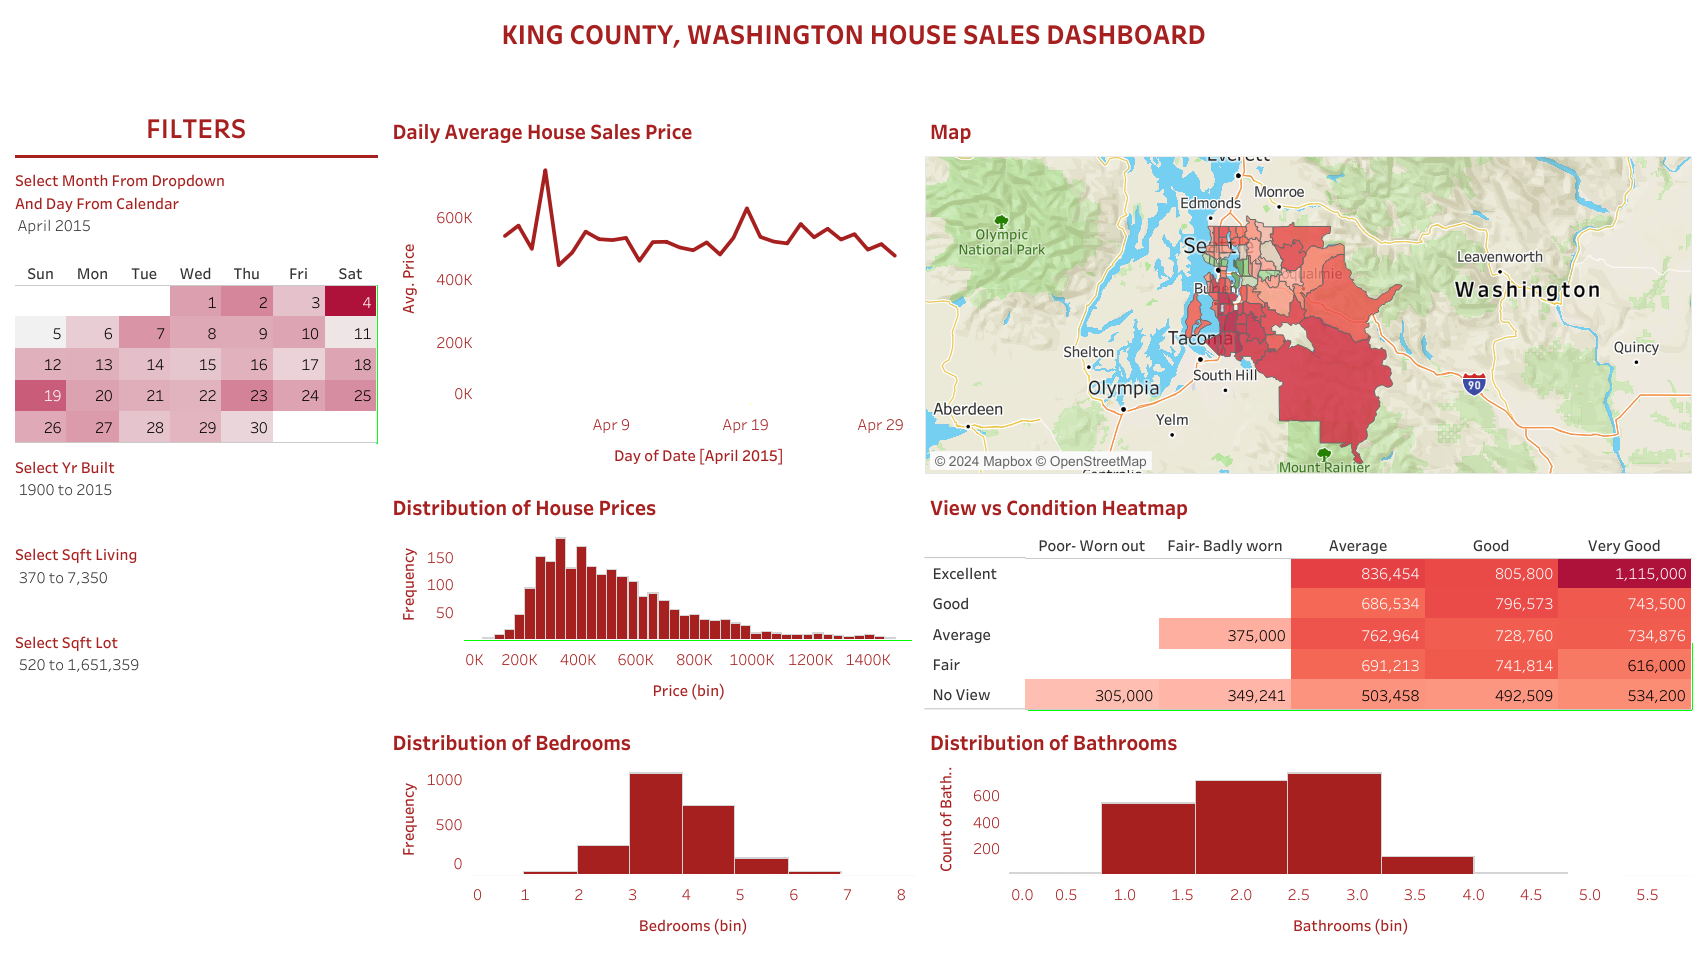

Layout of this report page (visuals, bound fields, positions):
{"tool":"tableau","page":{"name":"KingCountyHouseSales","canvas":[1000,1000],"units":"permille","ordinal":0},"visuals":[{"type":"text","box":[5.9,10,988.3,56.1]},{"type":"text","box":[5.9,107.3,218.2,56.1]},{"type":"worksheet","title":"Line Chart","mark":"Automatic","rows":["price"],"cols":["date"],"box":[224.1,107.3,315,393.3]},{"type":"worksheet","title":"Map","mark":"Automatic","box":[539.1,107.3,455.1,392.7]},{"type":"blank","box":[5.9,163.4,218.2,12.5]},{"type":"filter","title":"Calender","param":"[federated.1v52g1o040yq4518wz3s51om1w4j].[my:date:ok]","box":[5.9,175.9,218.2,102.2]},{"type":"worksheet","title":"Calender","mark":"Square","rows":["date"],"cols":["date"],"box":[5.9,278.2,218.2,193.3]},{"type":"filter","title":"Calender","param":"[federated.1v52g1o040yq4518wz3s51om1w4j].[none:yr_built:qk]","box":[5.9,471.4,218.2,68.6]},{"type":"worksheet","title":"Heatmap","mark":"Square","rows":["view"],"cols":["condition"],"box":[539.1,500,455.1,245]},{"type":"worksheet","title":"Histogram House Price","mark":"Automatic","rows":["price"],"cols":["Price (bin)"],"box":[224.1,500.6,315,244.3]},{"type":"filter","title":"Calender","param":"[federated.1v52g1o040yq4518wz3s51om1w4j].[none:sqft_living:qk]","box":[5.9,540,218.2,68.6]},{"type":"filter","title":"Calender","param":"[federated.1v52g1o040yq4518wz3s51om1w4j].[none:sqft_lot:qk]","box":[5.9,608.6,218.2,68.6]},{"type":"worksheet","title":"Histogram Bedrooms","mark":"Automatic","rows":["bedrooms"],"cols":["Bedrooms (bin)"],"box":[224.1,745,315,245.1]},{"type":"worksheet","title":"Histogram Bathrooms","mark":"Automatic","rows":["bathrooms"],"cols":["Bathrooms (bin)"],"box":[539.1,745,455.1,245.1]}]}

Visuals, with their boxes on the dashboard's canvas, which has no fixed pixel size, in thousandths of its width and height (x1, y1, x2, y2). These are canvas units, not pixel positions in the 1706x959 screenshot, which may show the page scaled, cropped or inside an application window:
text: pyautogui.locateOnScreen(6, 10, 994, 66)
text: pyautogui.locateOnScreen(6, 107, 224, 163)
"Line Chart" worksheet: pyautogui.locateOnScreen(224, 107, 539, 501)
"Map" worksheet: pyautogui.locateOnScreen(539, 107, 994, 500)
blank: pyautogui.locateOnScreen(6, 163, 224, 176)
"Calender" filter: pyautogui.locateOnScreen(6, 176, 224, 278)
"Calender" worksheet (Square marks): pyautogui.locateOnScreen(6, 278, 224, 472)
"Calender" filter: pyautogui.locateOnScreen(6, 471, 224, 540)
"Heatmap" worksheet (Square marks): pyautogui.locateOnScreen(539, 500, 994, 745)
"Histogram House Price" worksheet: pyautogui.locateOnScreen(224, 501, 539, 745)
"Calender" filter: pyautogui.locateOnScreen(6, 540, 224, 609)
"Calender" filter: pyautogui.locateOnScreen(6, 609, 224, 677)
"Histogram Bedrooms" worksheet: pyautogui.locateOnScreen(224, 745, 539, 990)
"Histogram Bathrooms" worksheet: pyautogui.locateOnScreen(539, 745, 994, 990)
